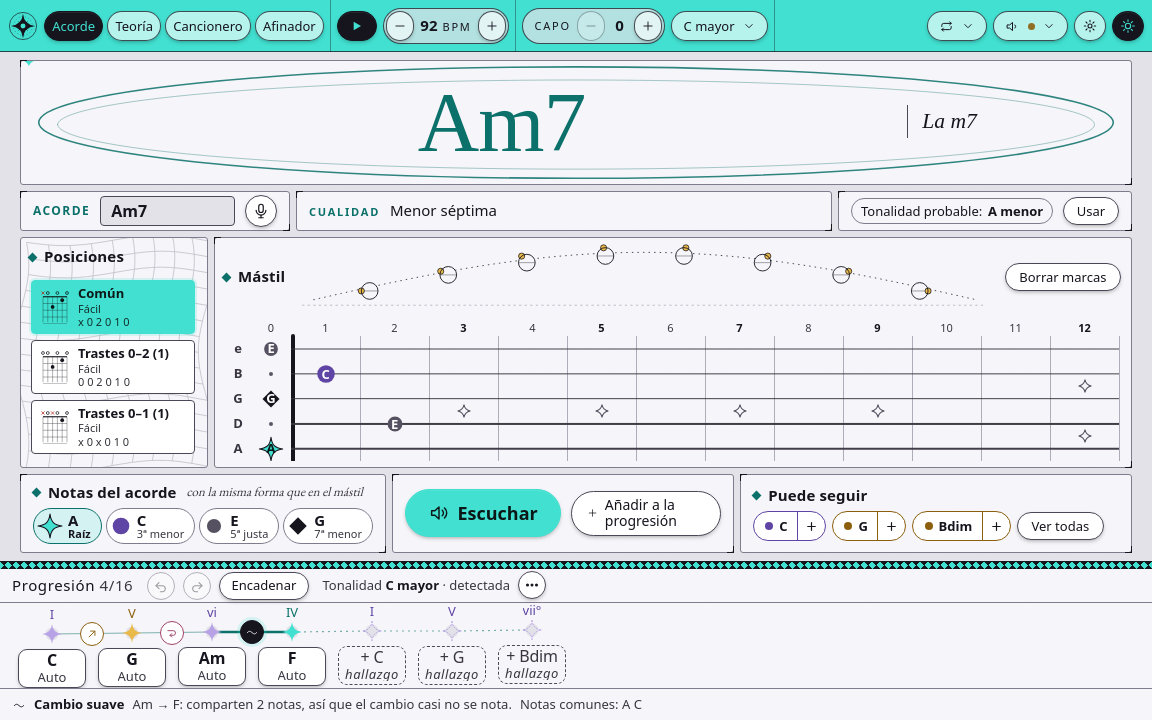
Scenario: ¿Cómo se usa? › also opens from Ajustes
Click the button named "Ajustes". click: (1090, 26)
box: [1074, 11, 1106, 41]
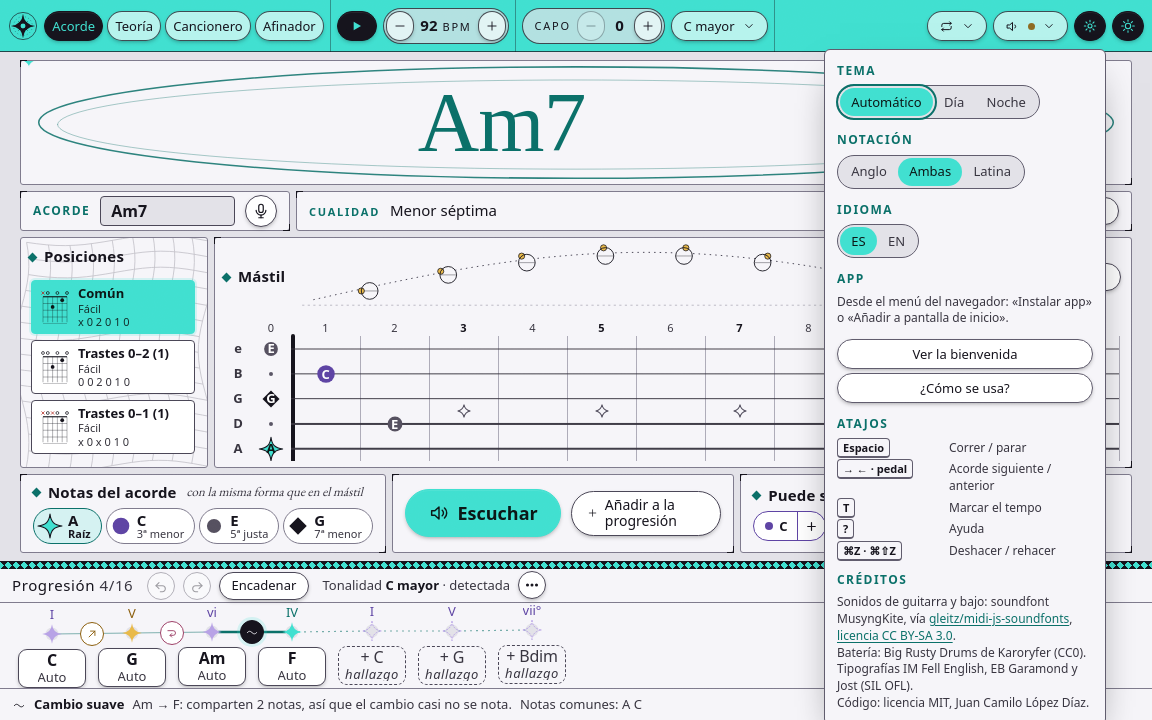
Click the button "¿Cómo se usa?". click: (965, 388)
box: [837, 373, 1093, 403]
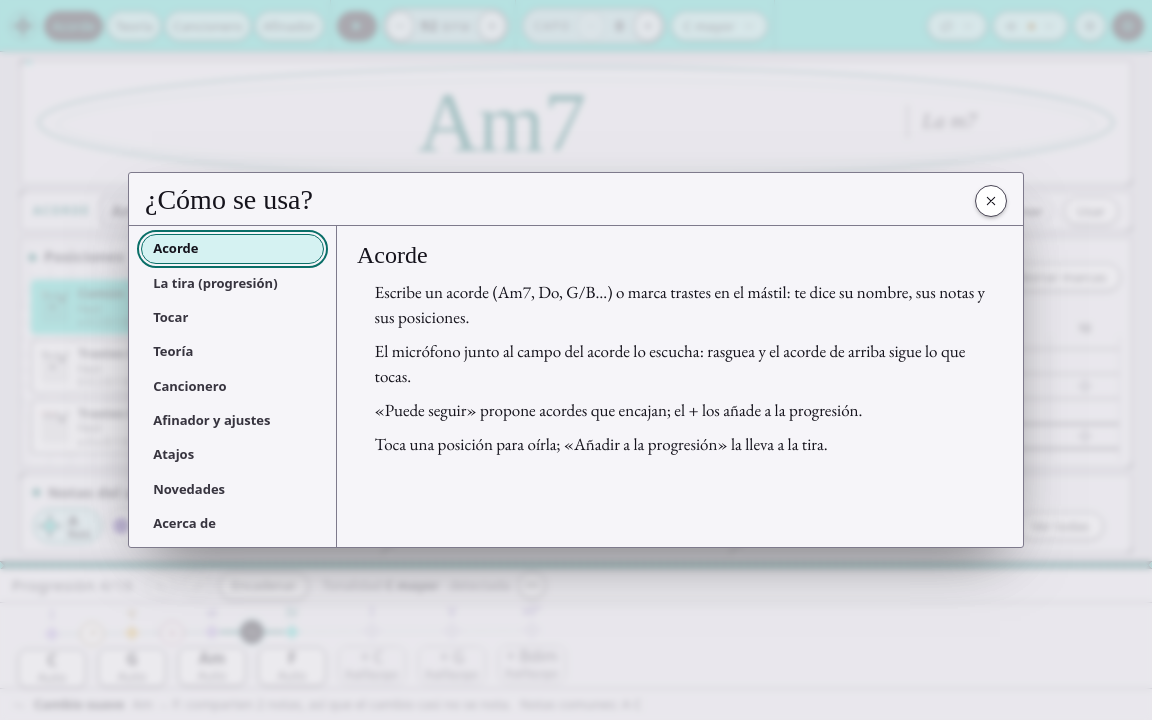
Expected: the dialog "¿Cómo se usa?" is shown, [128, 172, 1024, 548]
